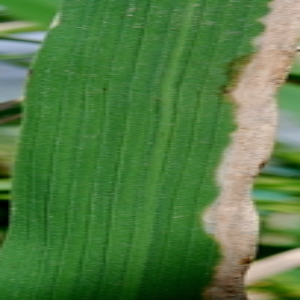Bacterial_Blight: (144, 1, 283, 299)
